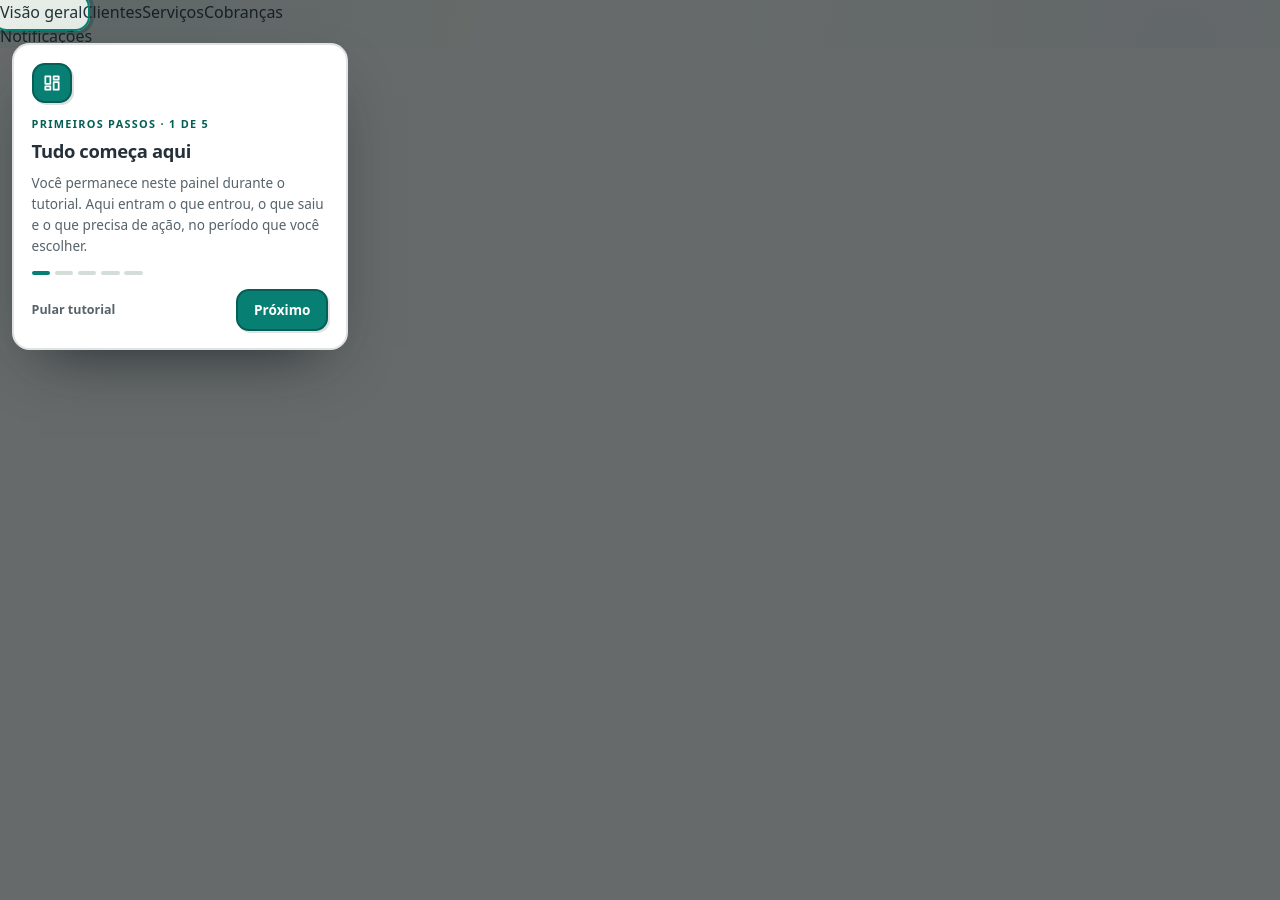
it: ProductTour › avança pelos passos no dashboard sem sair da tela atual
Expected: the heading "Tudo começa aqui" is shown, [32, 138, 191, 163]
Expected: the text "permanece neste painel" is shown, [32, 173, 324, 255]
Click the button "Próximo": (282, 310) [236, 289, 328, 331]
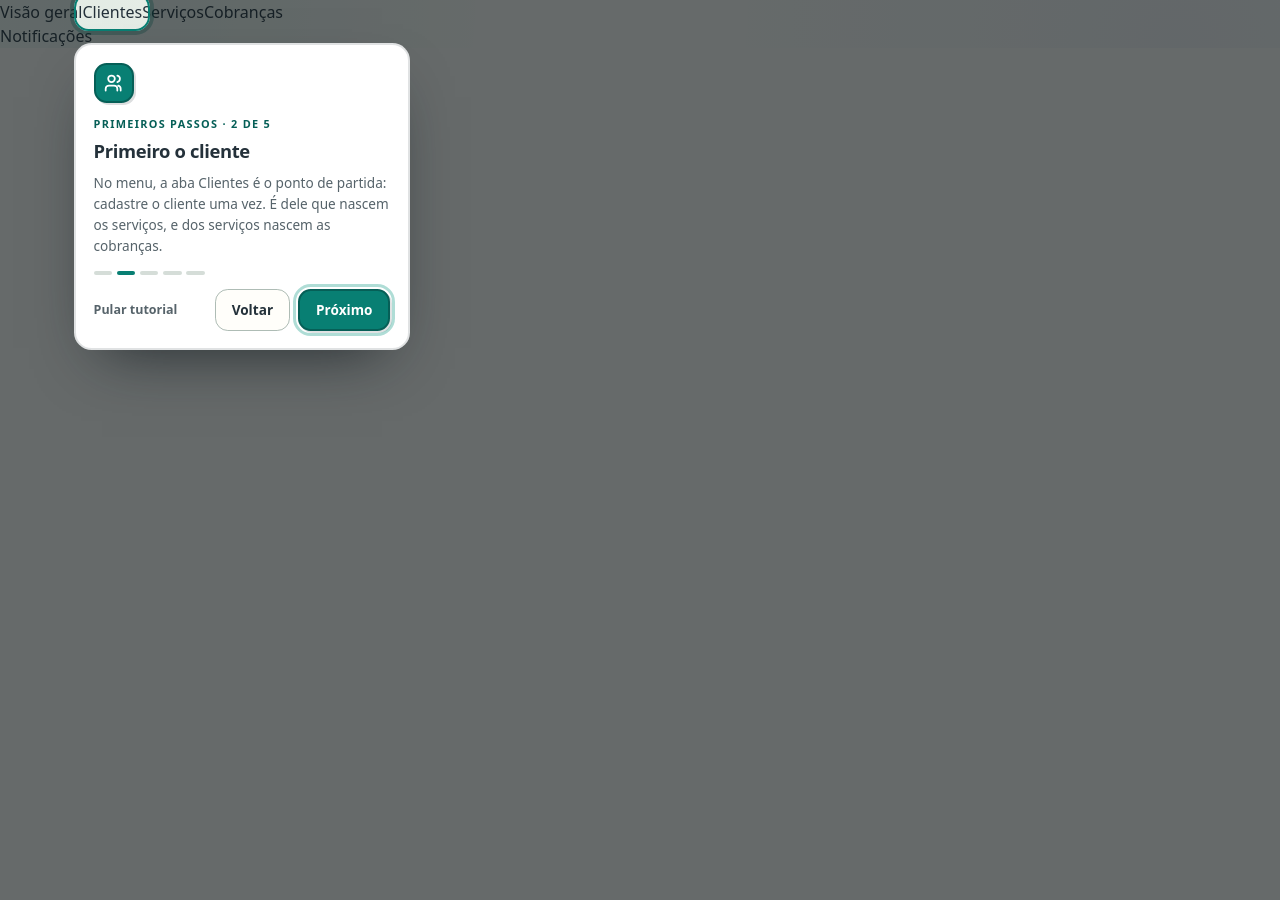
Now the heading "Primeiro o cliente" is shown, box [94, 138, 250, 163]
Now the text "aba Clientes" is shown, box [94, 173, 389, 255]
Click the button "Próximo": (345, 310) [298, 289, 391, 331]
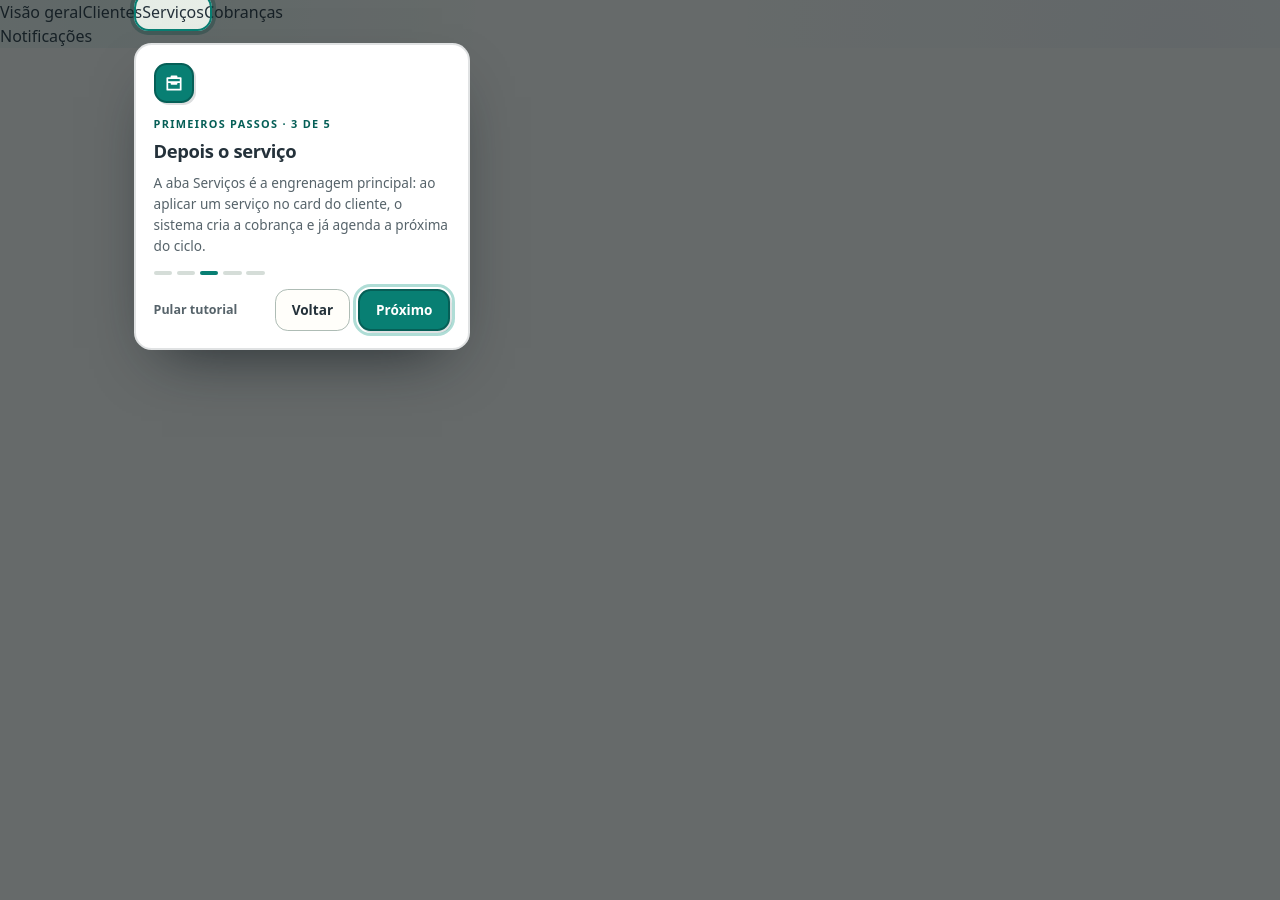
Now the heading "Depois o serviço" is shown, box [154, 138, 296, 163]
Click the button "Próximo": (404, 310) [358, 289, 451, 331]
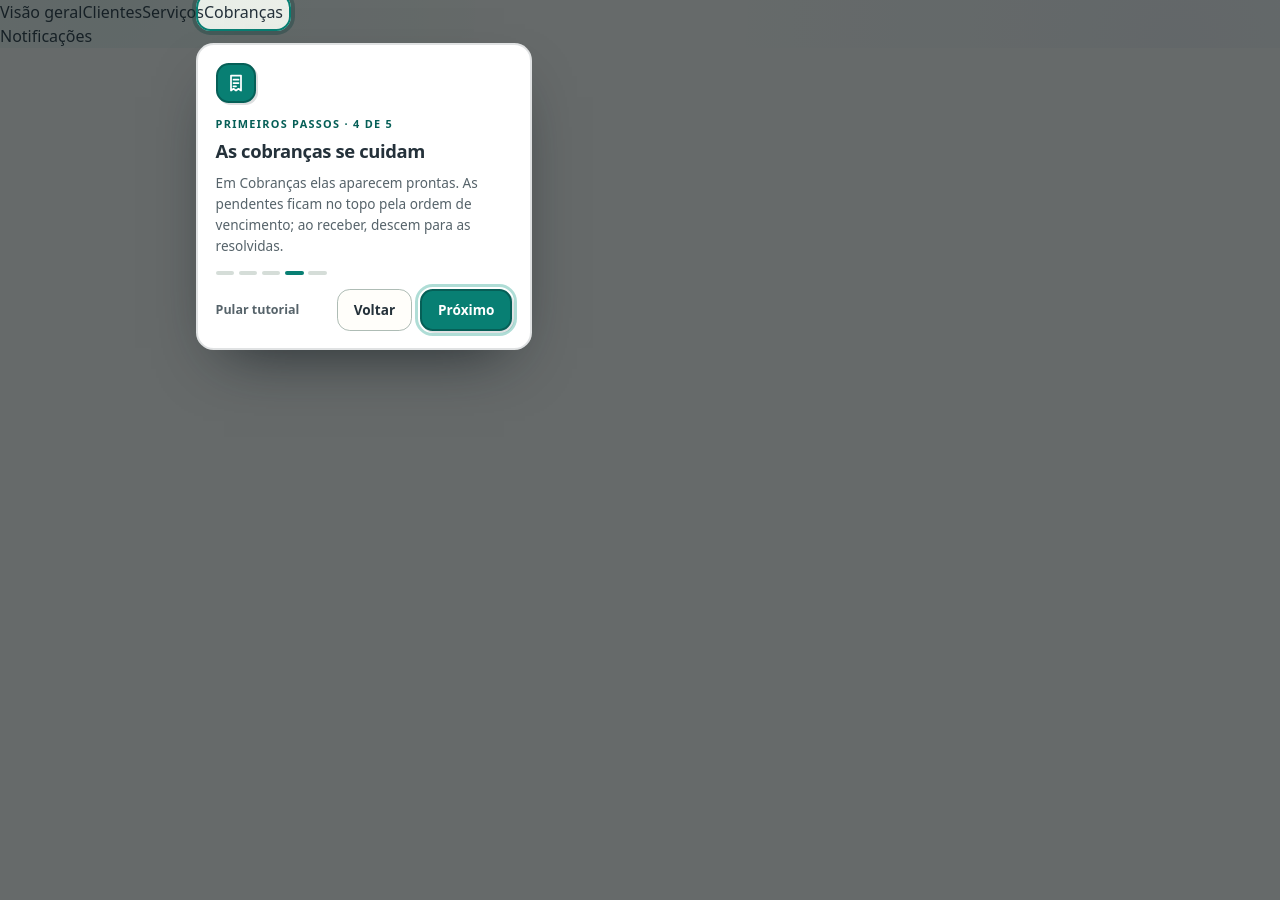
Now the heading "As cobranças se cuidam" is shown, box [216, 138, 425, 163]
Click the button "Próximo": (466, 310) [420, 289, 512, 331]
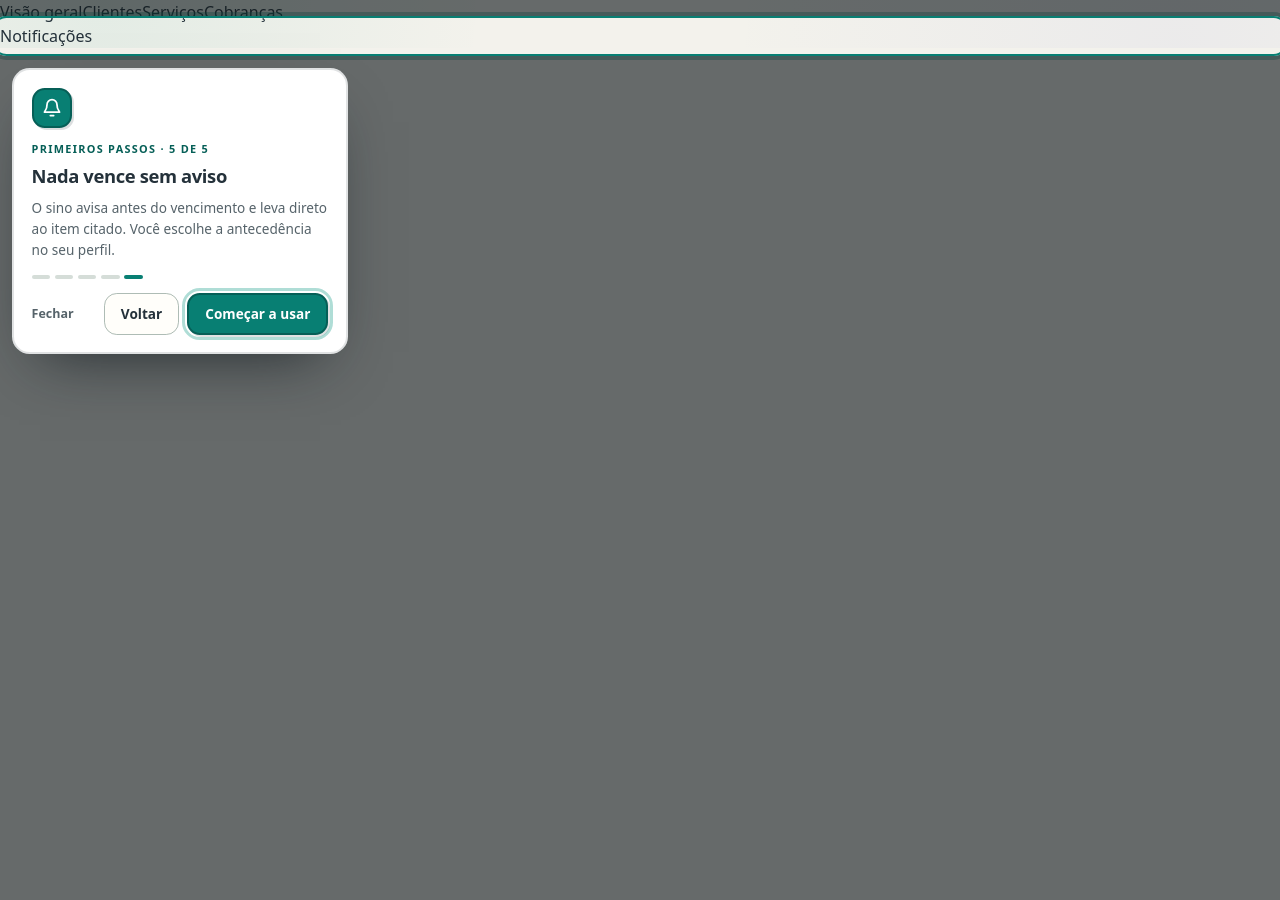
Now the heading "Nada vence sem aviso" is shown, box [32, 163, 227, 188]
Click the button "Começar a usar": (258, 314) [187, 293, 328, 335]
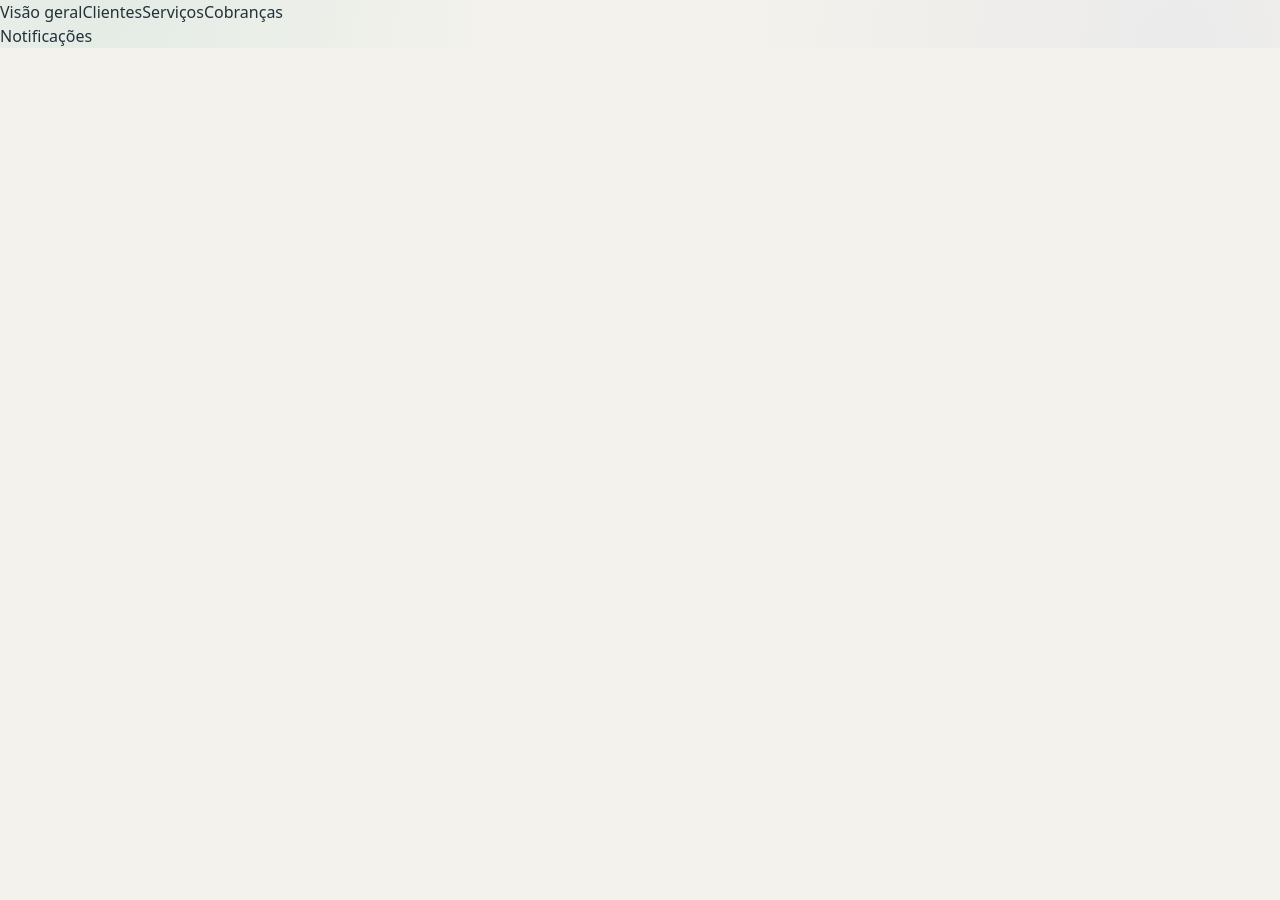
Now the dialog is gone
